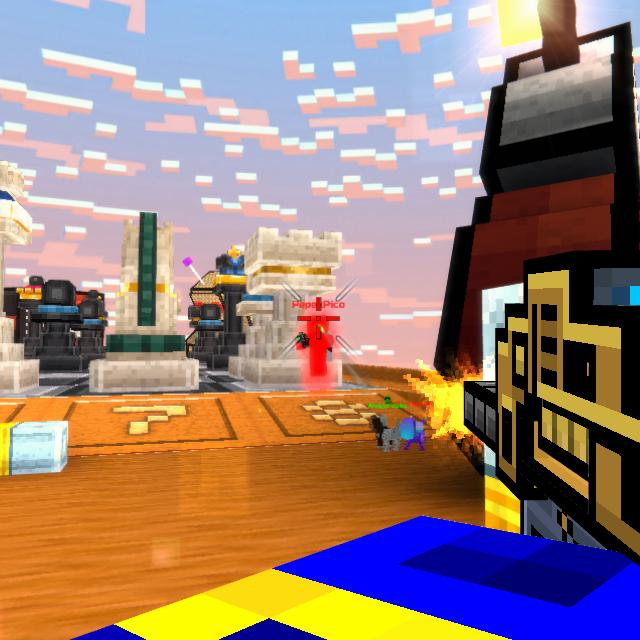Enemy: (294, 316, 331, 379)
